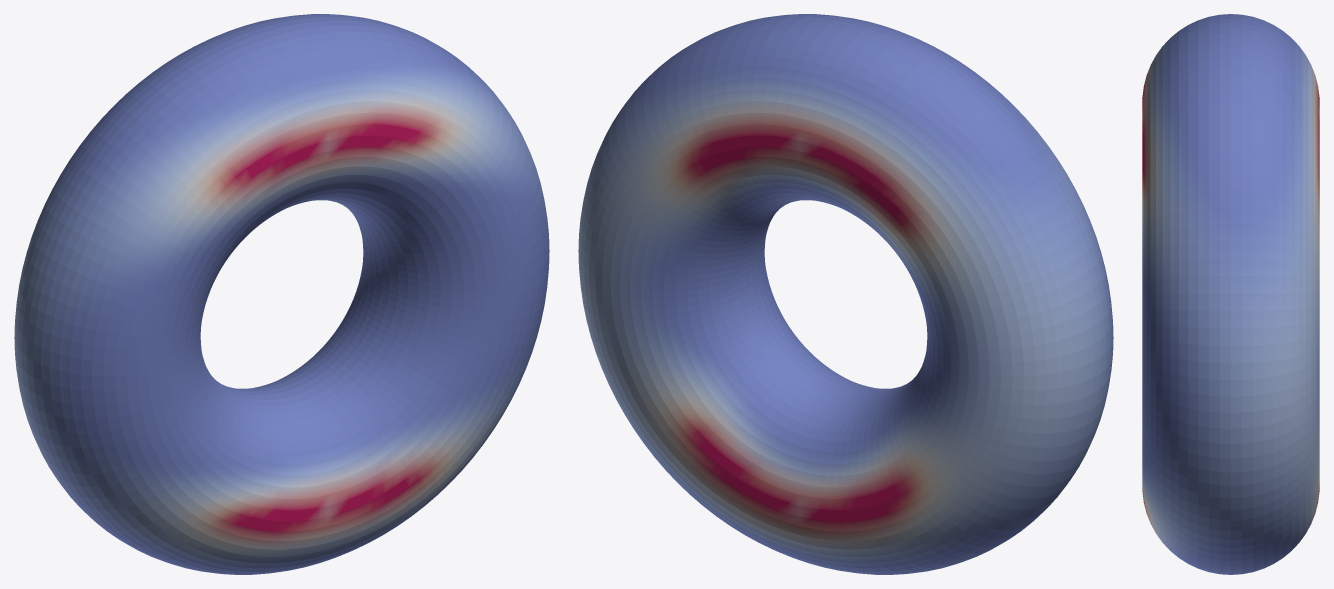
3 renders of one model, left to right at view 1: azimuth 30°, elevation 25°; view 2: azimuth 150°, elevation 25°; view 3: azimuth 270°, elevation 25°, orthographic. The views are drawn at different scales.
Visible parts, largest first — view 1: world; view 2: world; view 3: world.
Part boxes in pixels (<box>): world: <box>14,14,549,574</box>; world: <box>578,14,1113,574</box>; world: <box>1142,14,1319,574</box>.
Bounding box in the file's own units: 15.6 × 15.6 × 4.92.
